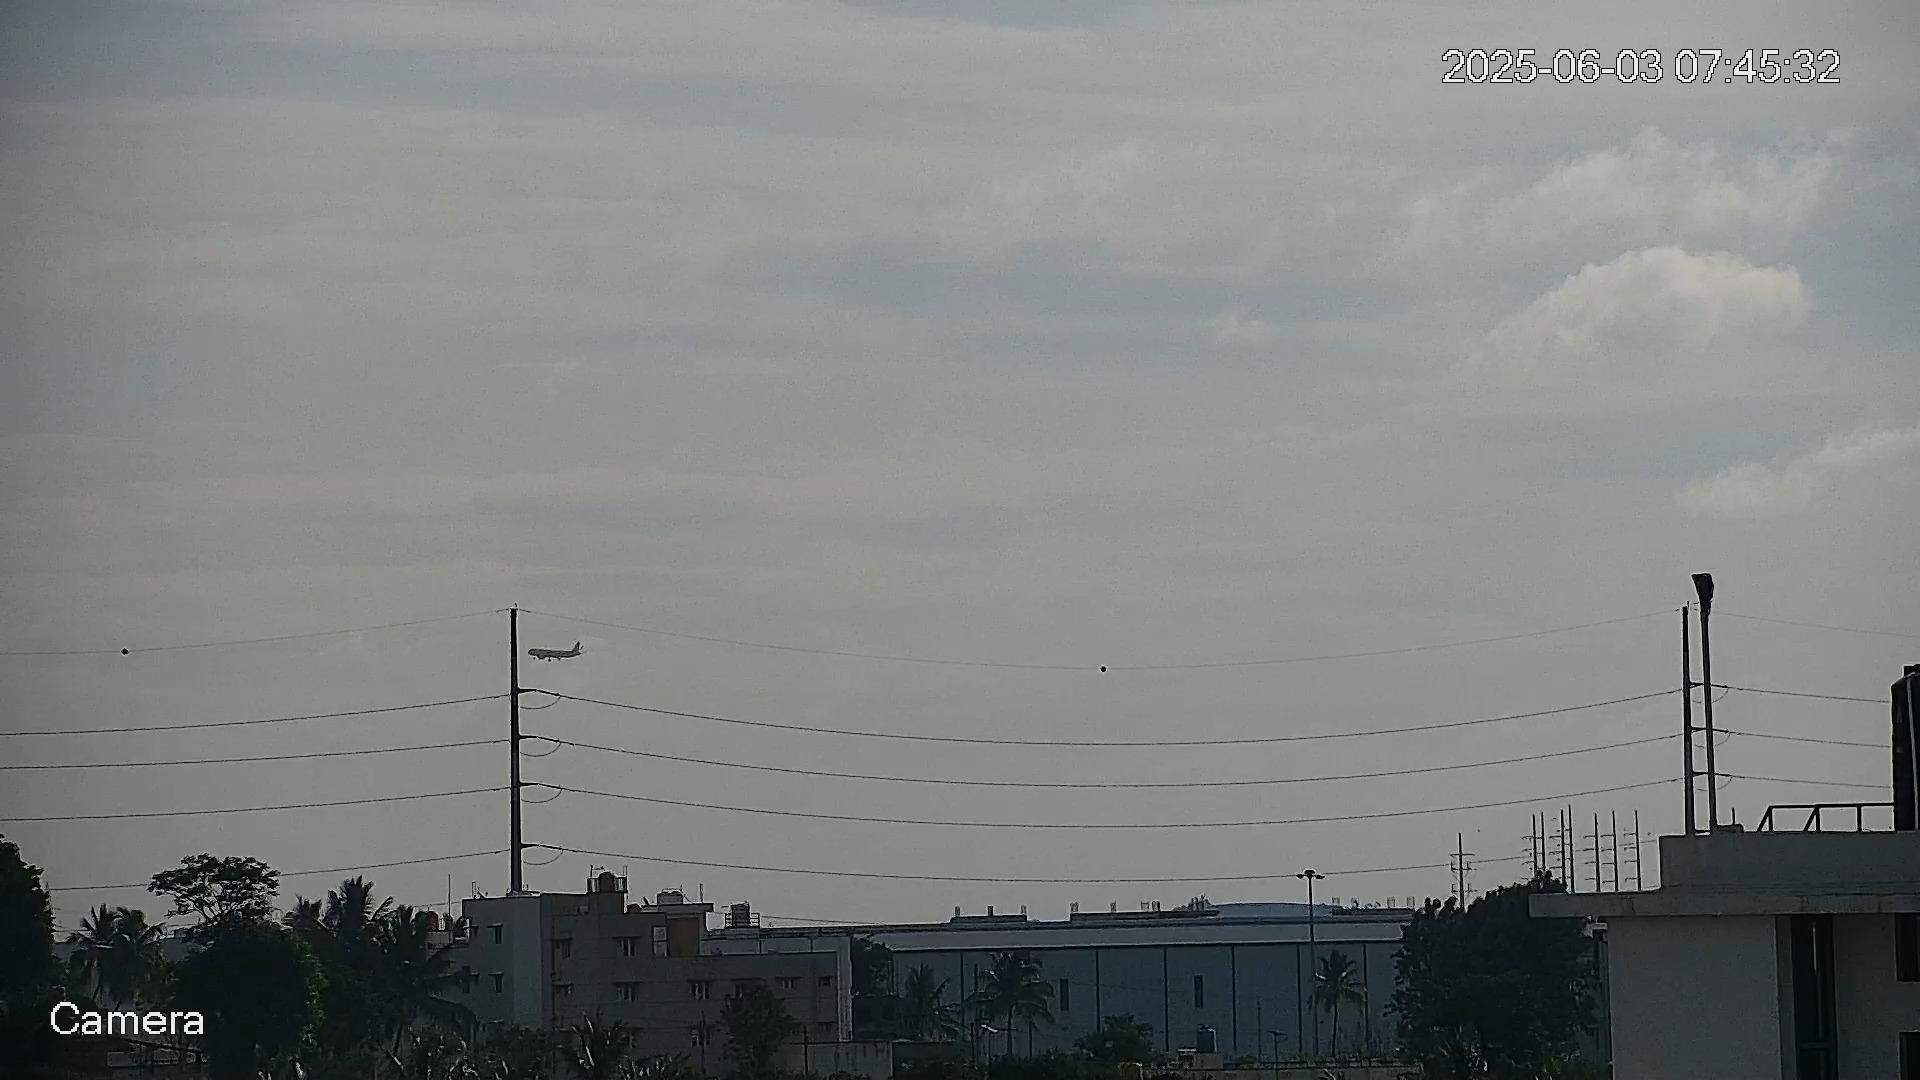Aircraft: (527, 640, 585, 663)
